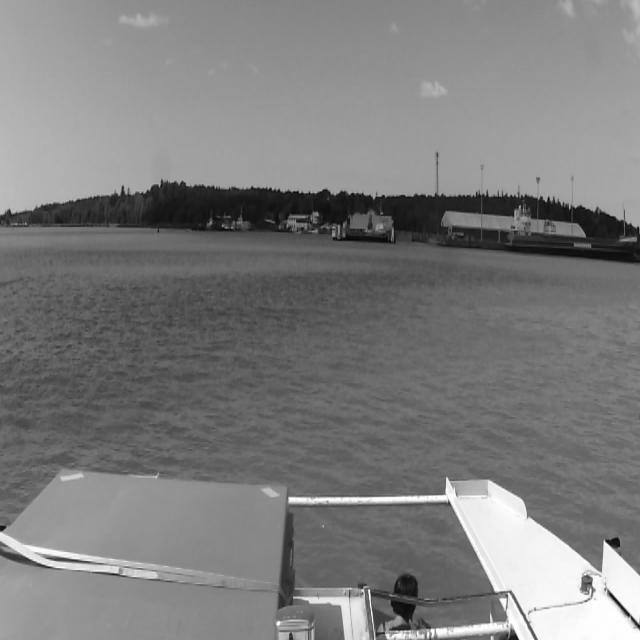buoy: (154, 220, 160, 234)
ship: (506, 199, 636, 261)
